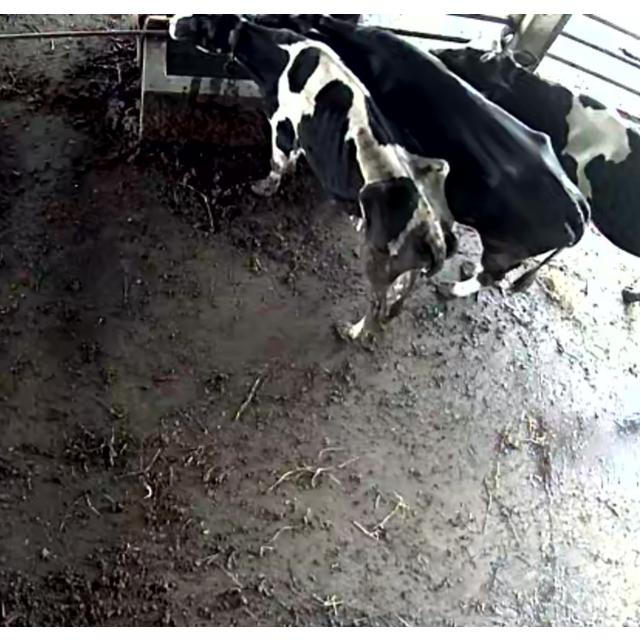drink: (163, 13, 295, 116), (292, 14, 406, 90)
